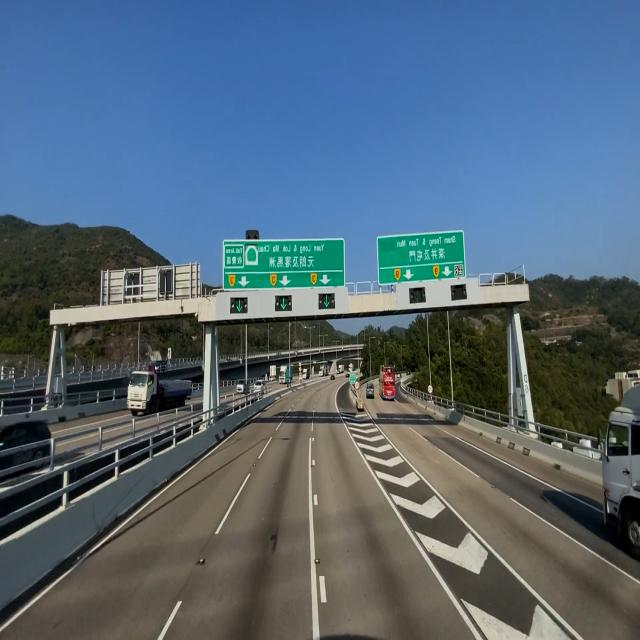Vehicle: (378, 360, 397, 407)
